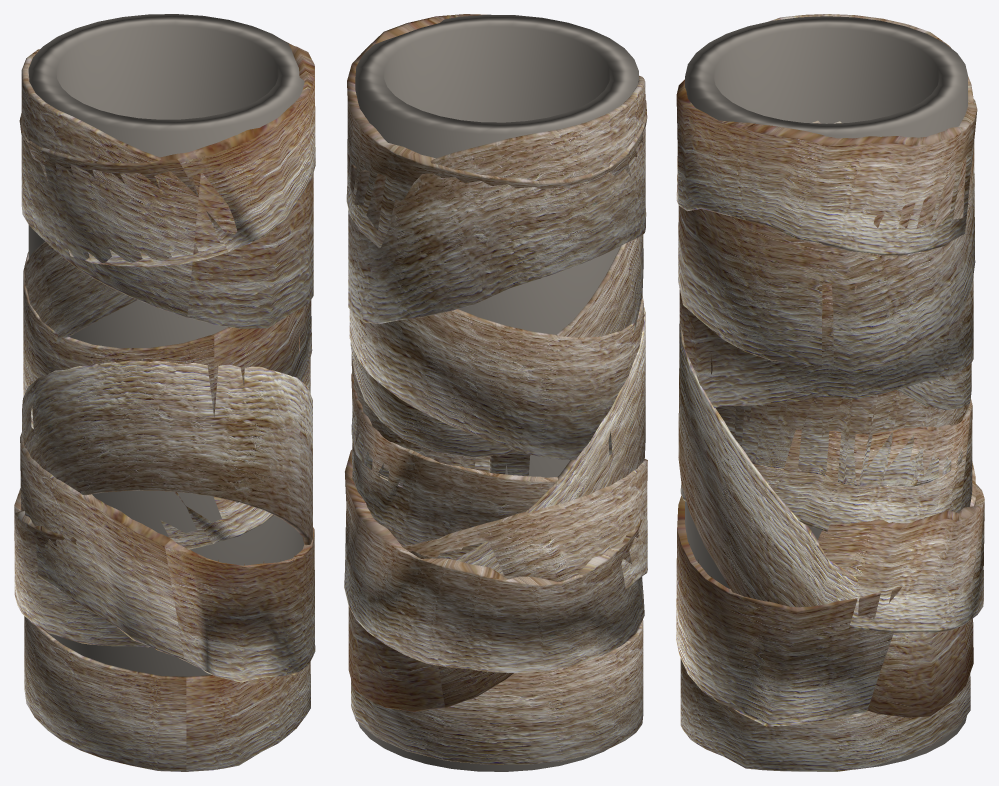
Rendered from Bandage Roll.fbx.
The picture shows the model from 3 angles, left to right: view 1: azimuth 30°, elevation 25°; view 2: azimuth 150°, elevation 25°; view 3: azimuth 270°, elevation 25°; orthographic projection.
Parts seen in each view (by area): view 1: Cylinder, Cylinder.001, Cylinder.007, Cylinder.010, Cylinder.006, Cylinder.009, Cylinder.004, Cylinder.008, Cylinder.003, Cylinder.005; view 2: Cylinder.007, Cylinder, Cylinder.008, Cylinder.004, Cylinder.006, Cylinder.001, Cylinder.005, Cylinder.010, Cylinder.009, Cylinder.003, Cylinder.002; view 3: Cylinder.007, Cylinder.009, Cylinder, Cylinder.001, Cylinder.010, Cylinder.008, Cylinder.006, Cylinder.002, Cylinder.004, Cylinder.005, Cylinder.003.
Part boxes in pixels (bbox=[...]): Cylinder: bbox=[28, 14, 304, 676]; Cylinder.001: bbox=[22, 360, 312, 545]; Cylinder.007: bbox=[21, 49, 313, 328]; Cylinder.010: bbox=[20, 432, 315, 682]; Cylinder.006: bbox=[24, 616, 310, 771]; Cylinder.009: bbox=[19, 41, 315, 267]; Cylinder.004: bbox=[23, 252, 312, 428]; Cylinder.008: bbox=[14, 488, 149, 647]; Cylinder.003: bbox=[24, 241, 137, 342]; Cylinder.005: bbox=[118, 492, 273, 549]; Cylinder.007: bbox=[348, 75, 645, 323]; Cylinder: bbox=[355, 14, 638, 771]; Cylinder.008: bbox=[344, 449, 644, 673]; Cylinder.004: bbox=[349, 296, 643, 459]; Cylinder.006: bbox=[351, 620, 643, 764]; Cylinder.001: bbox=[348, 307, 645, 711]; Cylinder.005: bbox=[351, 373, 557, 559]; Cylinder.010: bbox=[402, 459, 647, 589]; Cylinder.009: bbox=[346, 14, 647, 247]; Cylinder.003: bbox=[350, 235, 643, 457]; Cylinder.002: bbox=[351, 354, 530, 487]; Cylinder.007: bbox=[678, 14, 975, 373]; Cylinder.009: bbox=[676, 79, 977, 255]; Cylinder: bbox=[685, 16, 967, 769]; Cylinder.001: bbox=[678, 321, 973, 717]; Cylinder.010: bbox=[676, 461, 975, 726]; Cylinder.008: bbox=[818, 484, 984, 633]; Cylinder.006: bbox=[680, 658, 970, 771]; Cylinder.002: bbox=[711, 354, 969, 486]; Cylinder.004: bbox=[679, 276, 973, 407]; Cylinder.005: bbox=[680, 398, 972, 531]; Cylinder.003: bbox=[897, 363, 971, 410].
Size of the model in its own units: 214 by 511 by 218.
Materials: 2 (1 with a texture image).
